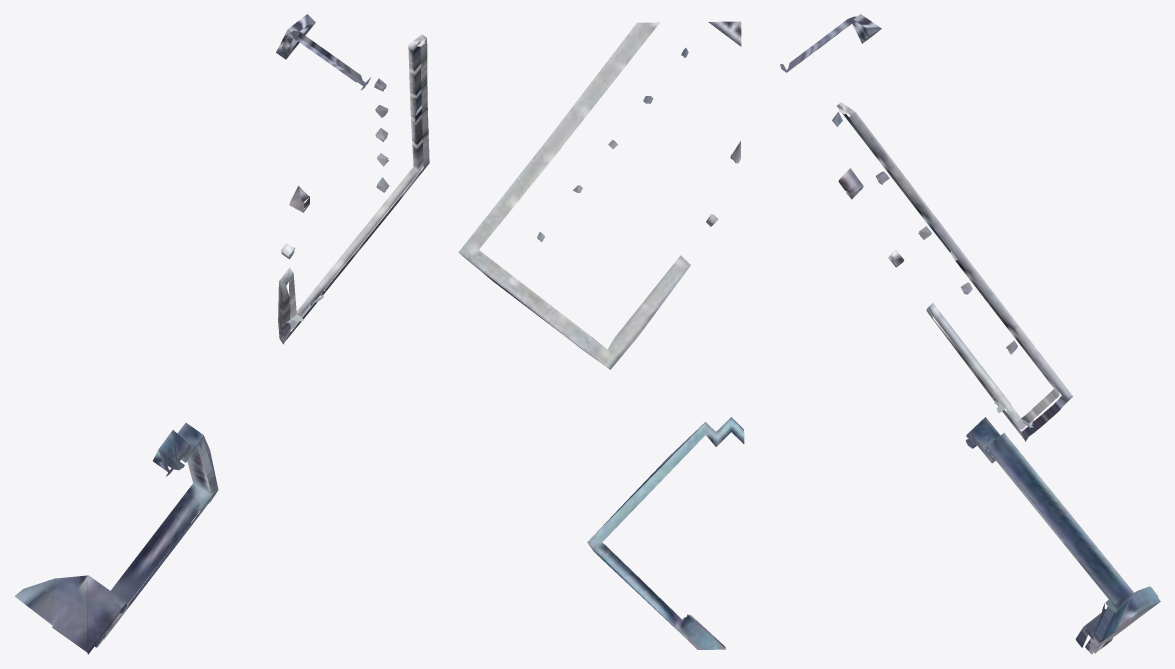
The picture shows the model from 3 angles, left to right: view 1: azimuth 30°, elevation 25°; view 2: azimuth 150°, elevation 25°; view 3: azimuth 270°, elevation 25°; orthographic projection. The views are drawn at different scales.
Bounding box in the file's own units: 20.88 × 36.8 × 18.78.
Materials: 1 (1 with a texture image).
